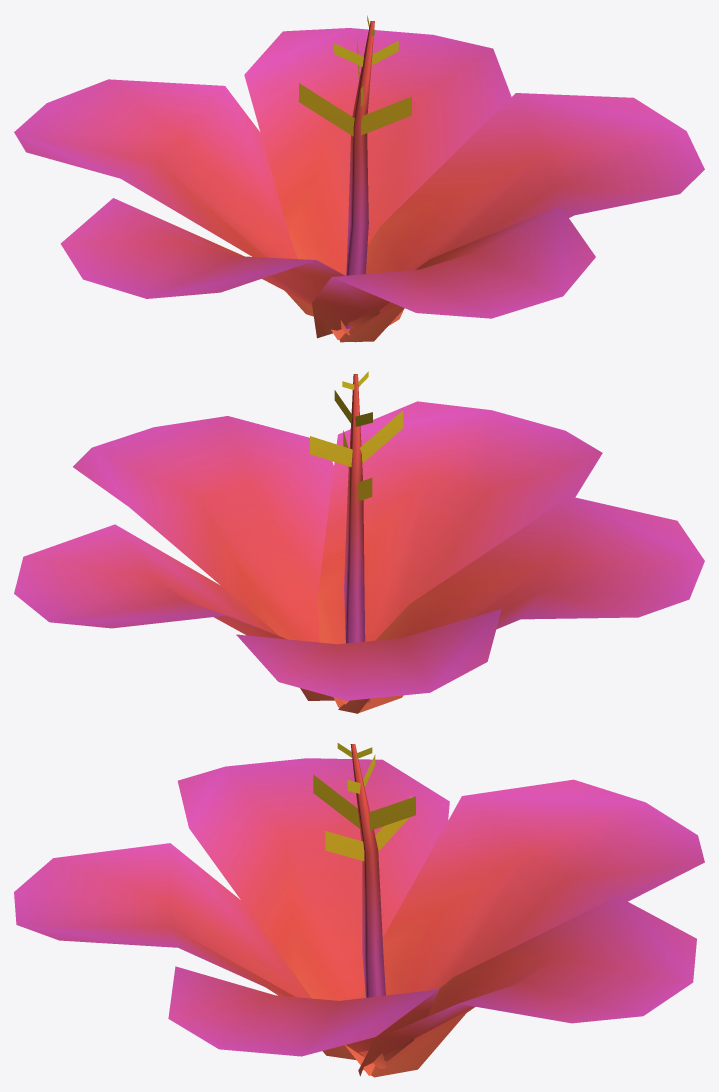
The model's file is Hibiscus_PinkRed.fbx.
3 views of the same model, one above another, from view 1: azimuth 30°, elevation 25°; view 2: azimuth 150°, elevation 25°; view 3: azimuth 270°, elevation 25° (orthographic). The views are drawn at different scales.
Parts seen in each view (by area): view 1: Hibiscus_PinkRed; view 2: Hibiscus_PinkRed; view 3: Hibiscus_PinkRed.
Boxes of the visible parts, x1=… form: Hibiscus_PinkRed: x1=14, y1=15, x2=704, y2=342; Hibiscus_PinkRed: x1=14, y1=371, x2=704, y2=713; Hibiscus_PinkRed: x1=14, y1=743, x2=704, y2=1077.
Size of the model in its own units: 40.86 by 20.85 by 39.5.
